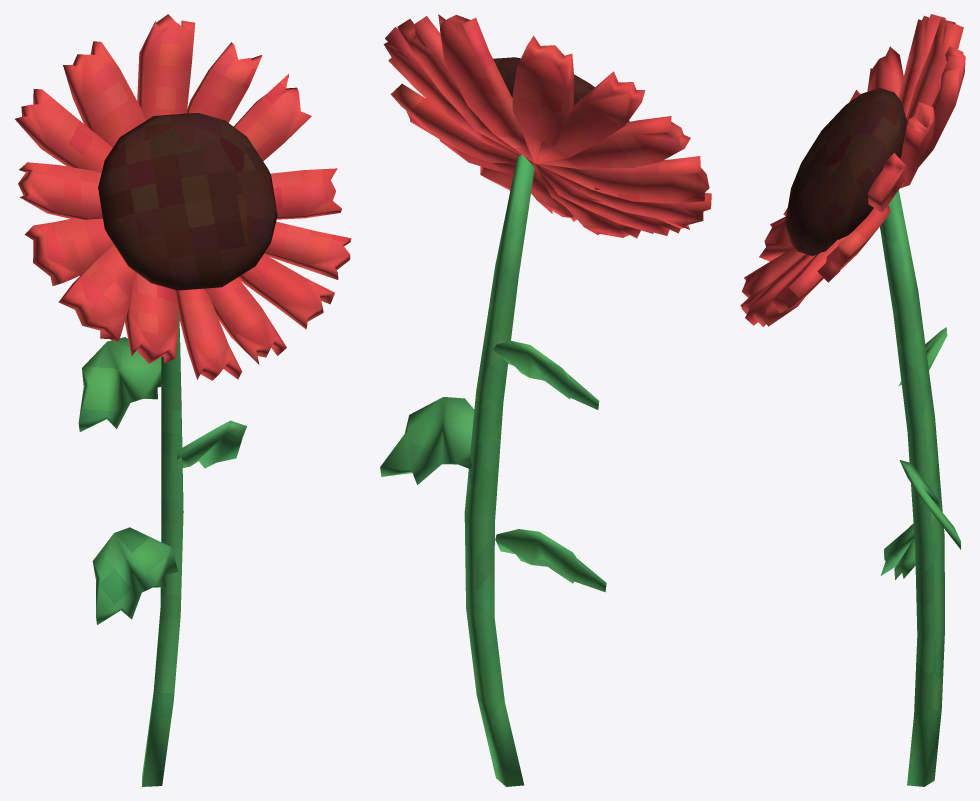
File: red_sunflower.fbx
The picture shows the model from 3 angles, left to right: view 1: azimuth 30°, elevation 25°; view 2: azimuth 150°, elevation 25°; view 3: azimuth 270°, elevation 25°; orthographic projection. The views are drawn at different scales.
Parts seen in each view (by area): view 1: red_sunflower; view 2: red_sunflower; view 3: red_sunflower.
Part boxes in pixels (bbox=[...]): red_sunflower: bbox=[15, 14, 351, 786]; red_sunflower: bbox=[380, 14, 711, 786]; red_sunflower: bbox=[740, 14, 965, 786].
Size of the model in its own units: 28.27 by 65.75 by 17.96.
